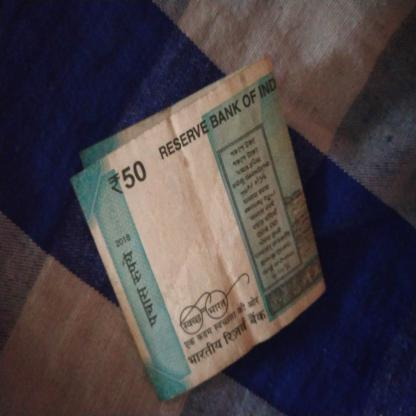New50Back: (106, 84, 302, 367)
